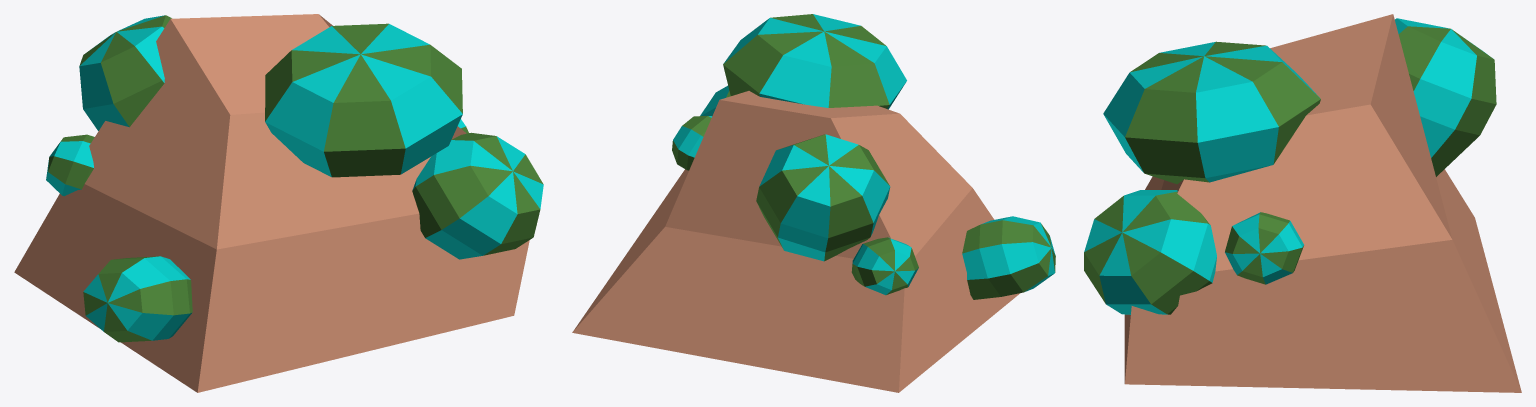
The model's file is coral_1.fbx.
3 renders of one model, left to right at view 1: azimuth 30°, elevation 25°; view 2: azimuth 150°, elevation 25°; view 3: azimuth 270°, elevation 25°, orthographic. The views are drawn at different scales.
Visible parts, largest first — view 1: Cube.002; view 2: Cube.002; view 3: Cube.002.
Boxes of the visible parts, x1,y1,x2,y2 form: Cube.002: (14,14,543,392); Cube.002: (572,14,1055,392); Cube.002: (1084,14,1521,392).
Bounding box in the file's own units: 196 × 118 × 173.
